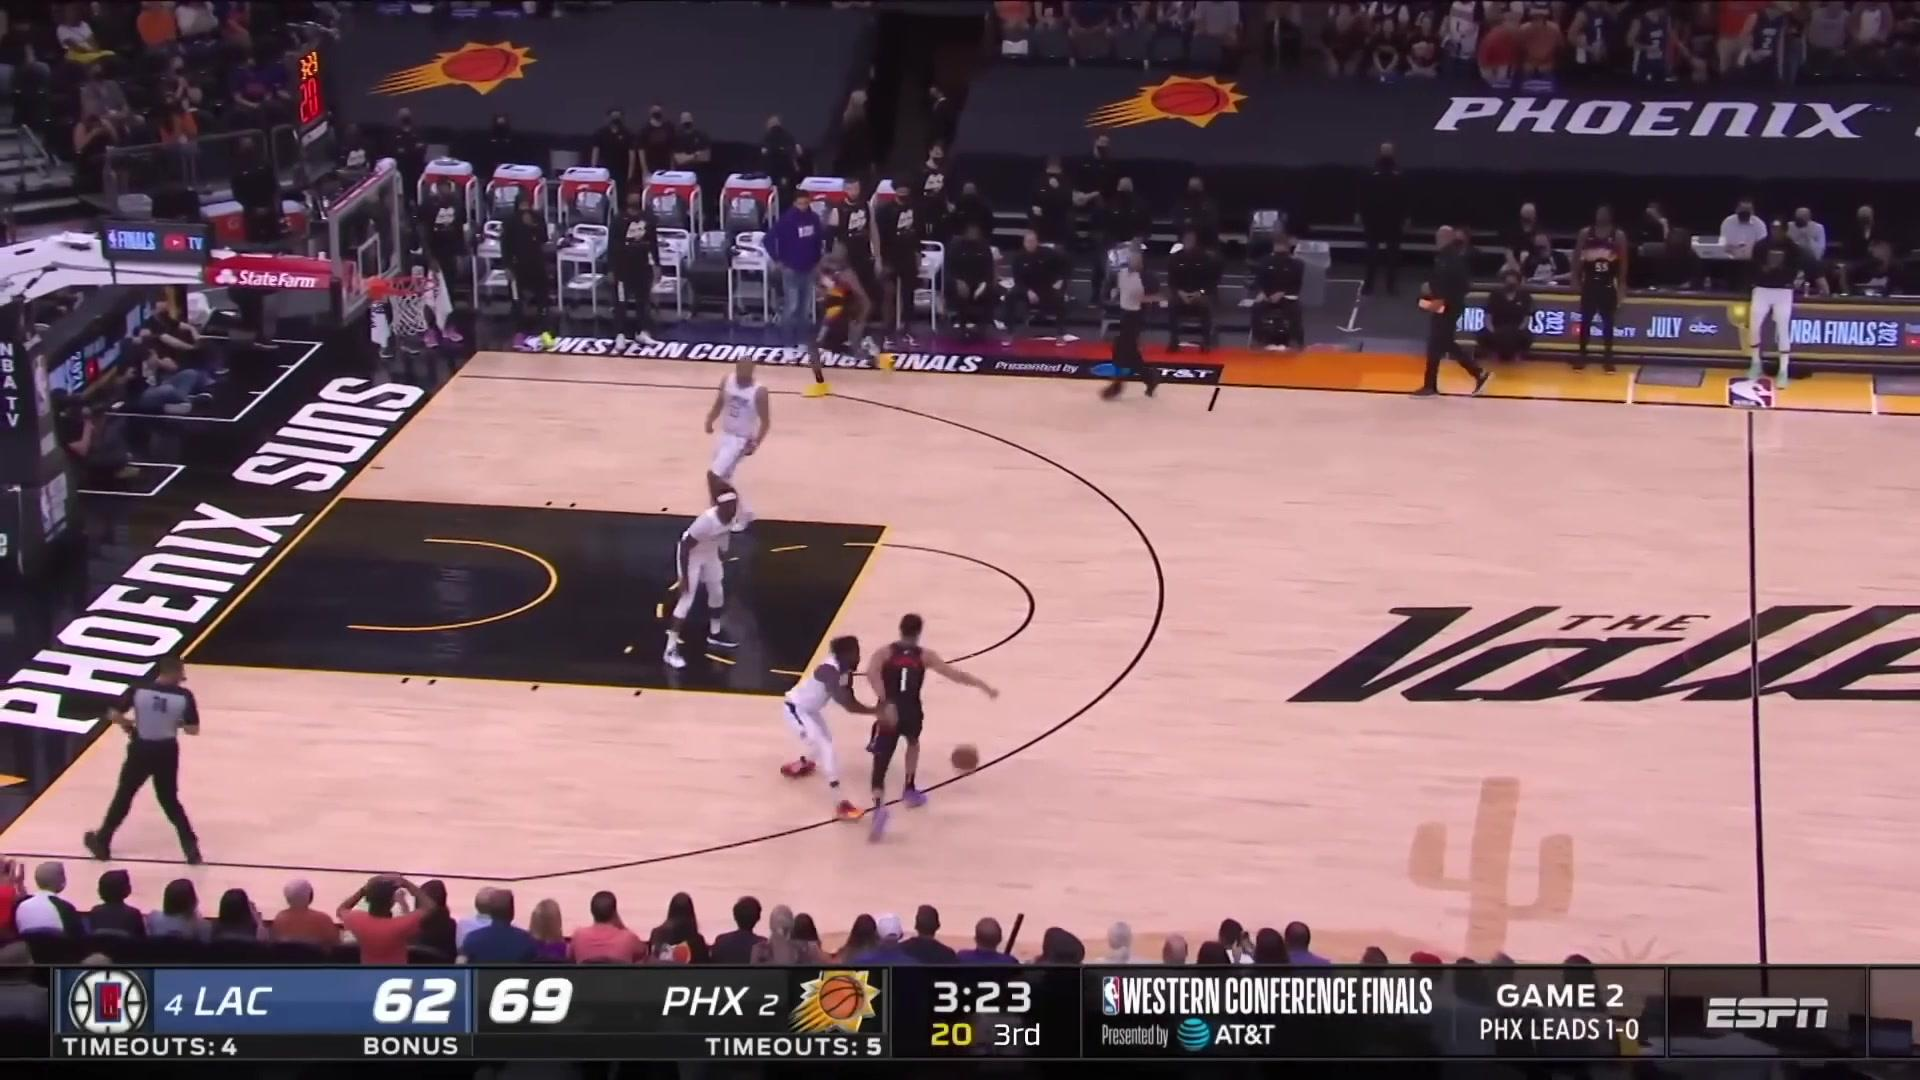no_foul: (752, 588, 984, 835)
